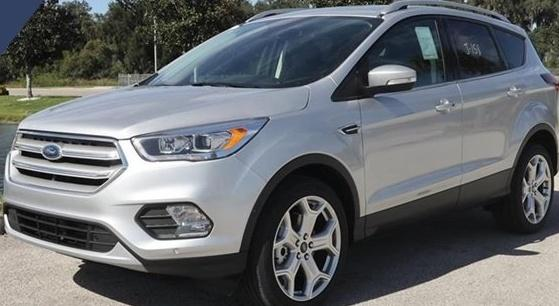SUV: (4, 0, 559, 305)
